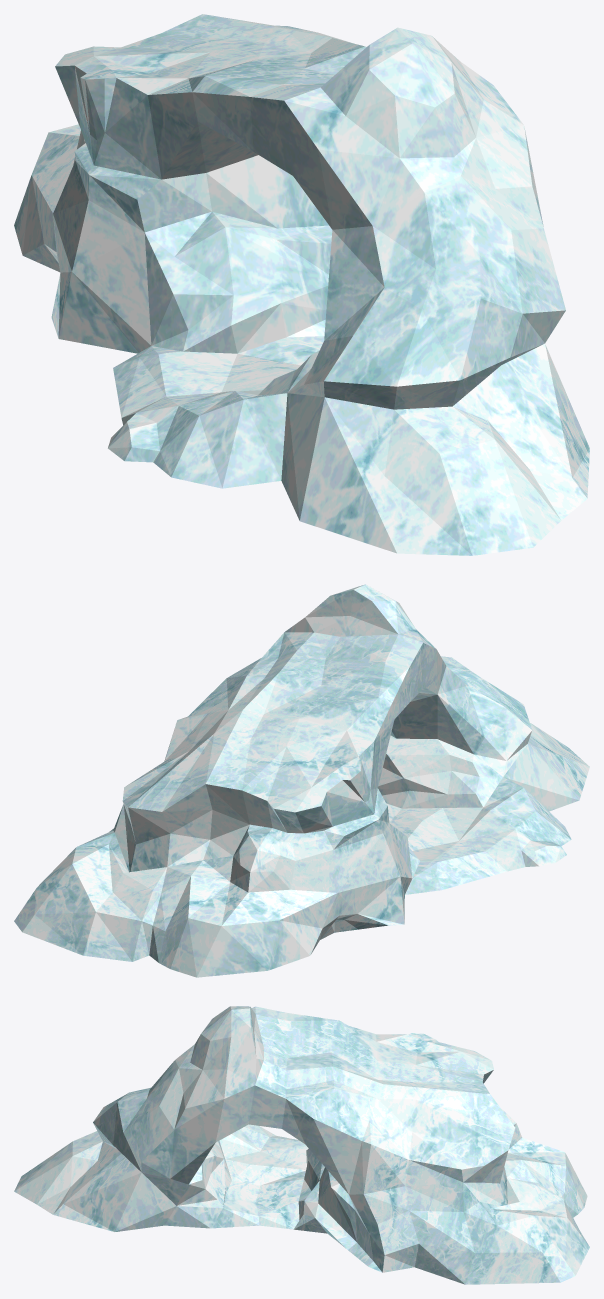
The model's file is C1SNICEARCH_H.bgf.obj.
3 renders of one model, top to bottom at view 1: azimuth 30°, elevation 25°; view 2: azimuth 150°, elevation 25°; view 3: azimuth 270°, elevation 25°, orthographic. The views are drawn at different scales.
Parts seen in each view (by area): view 1: C1SNICEARCH; view 2: C1SNICEARCH; view 3: C1SNICEARCH.
Part boxes in pixels (x1=…): C1SNICEARCH: x1=14, y1=14, x2=589, y2=555; C1SNICEARCH: x1=14, y1=584, x2=589, y2=977; C1SNICEARCH: x1=14, y1=1006, x2=589, y2=1284.
Size of the model in its own units: 47.32 by 30.43 by 76.16.
1 material, 1 textured.
